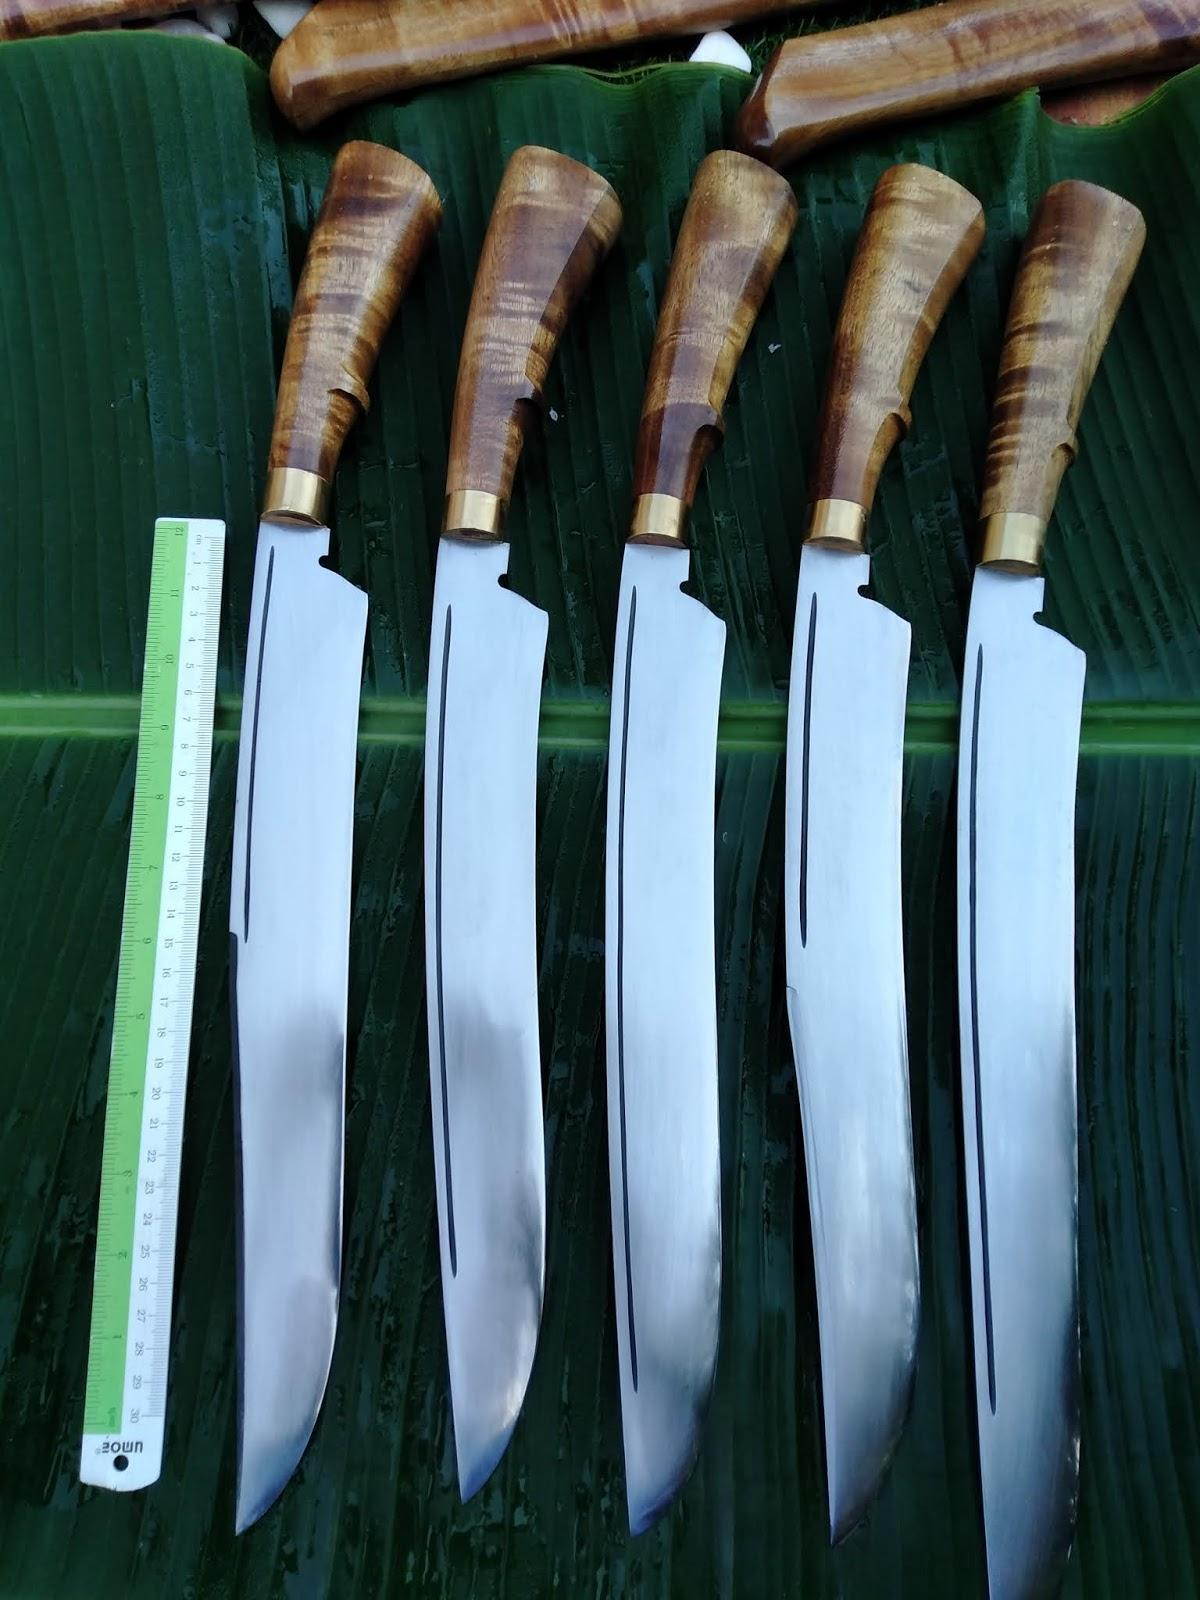facao: (200, 94, 363, 1523), (778, 155, 925, 1468), (971, 205, 1108, 1585), (435, 110, 558, 1468), (610, 135, 730, 1495)
